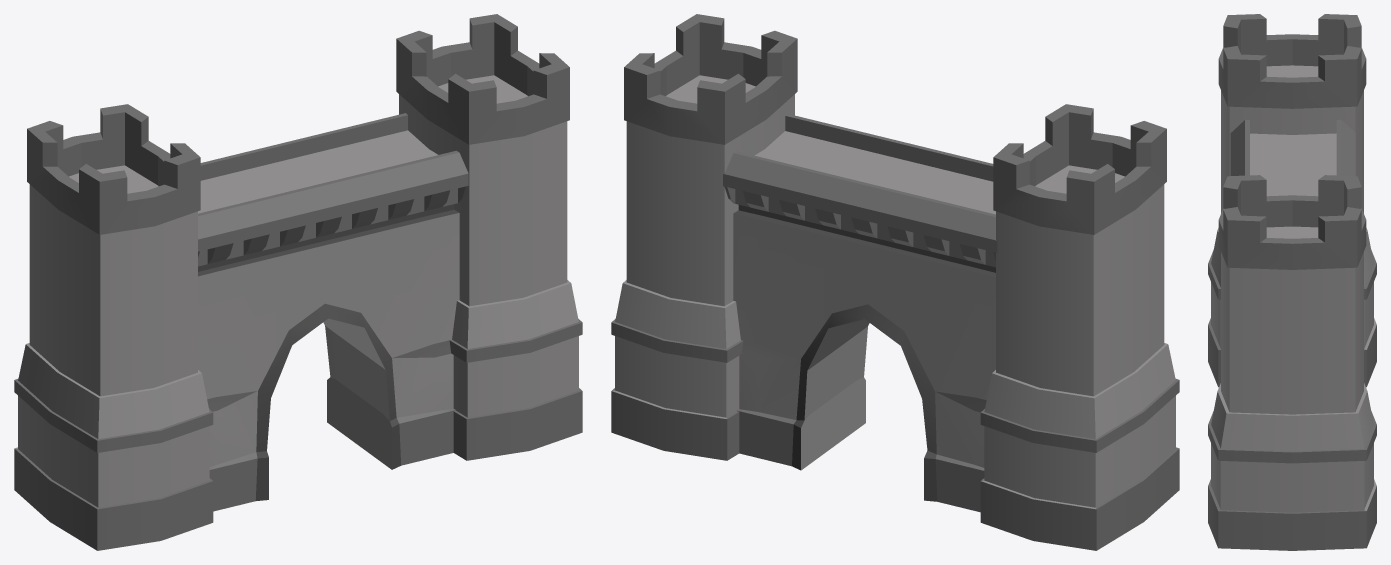
The model's file is Modular_wall_Gate_wall.fbx.
The picture shows the model from 3 angles, left to right: view 1: azimuth 30°, elevation 25°; view 2: azimuth 150°, elevation 25°; view 3: azimuth 270°, elevation 25°; orthographic projection. The views are drawn at different scales.
Parts seen in each view (by area): view 1: Gate_wall; view 2: Gate_wall; view 3: Gate_wall.
Boxes of the visible parts, <box> form: Gate_wall: <box>14,14,582,550</box>; Gate_wall: <box>611,14,1179,550</box>; Gate_wall: <box>1208,14,1376,550</box>.
Bounding box in the file's own units: 24.23 × 16.93 × 7.97.
1 material, 1 textured.
